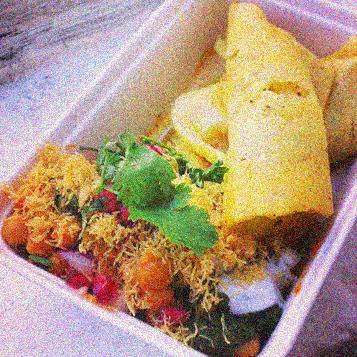dosa: (224, 3, 336, 233)
